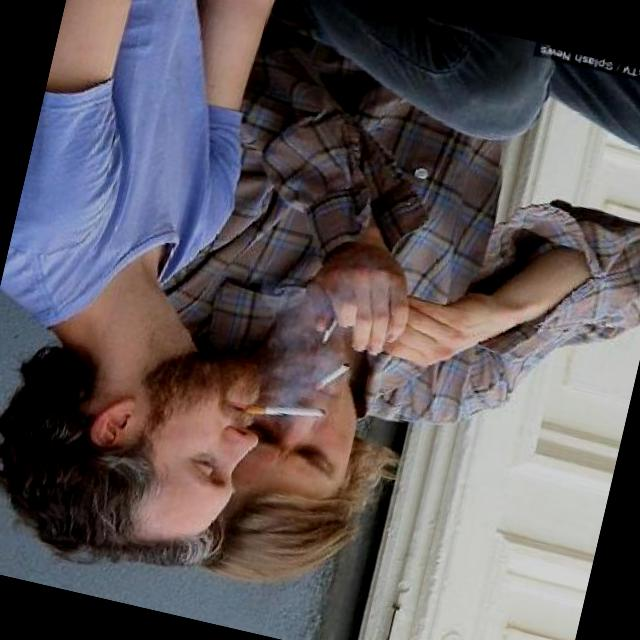smoke: (237, 387, 327, 432), (306, 353, 352, 402)
